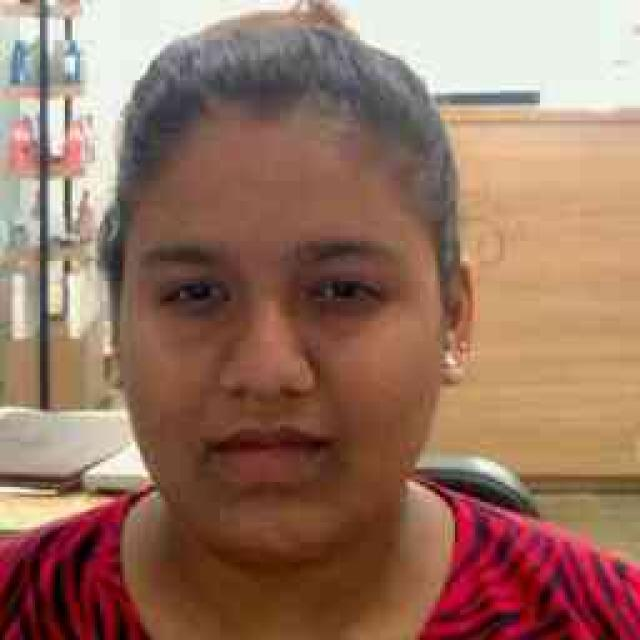puffy_eyes: (163, 309, 243, 351), (308, 308, 367, 333)
